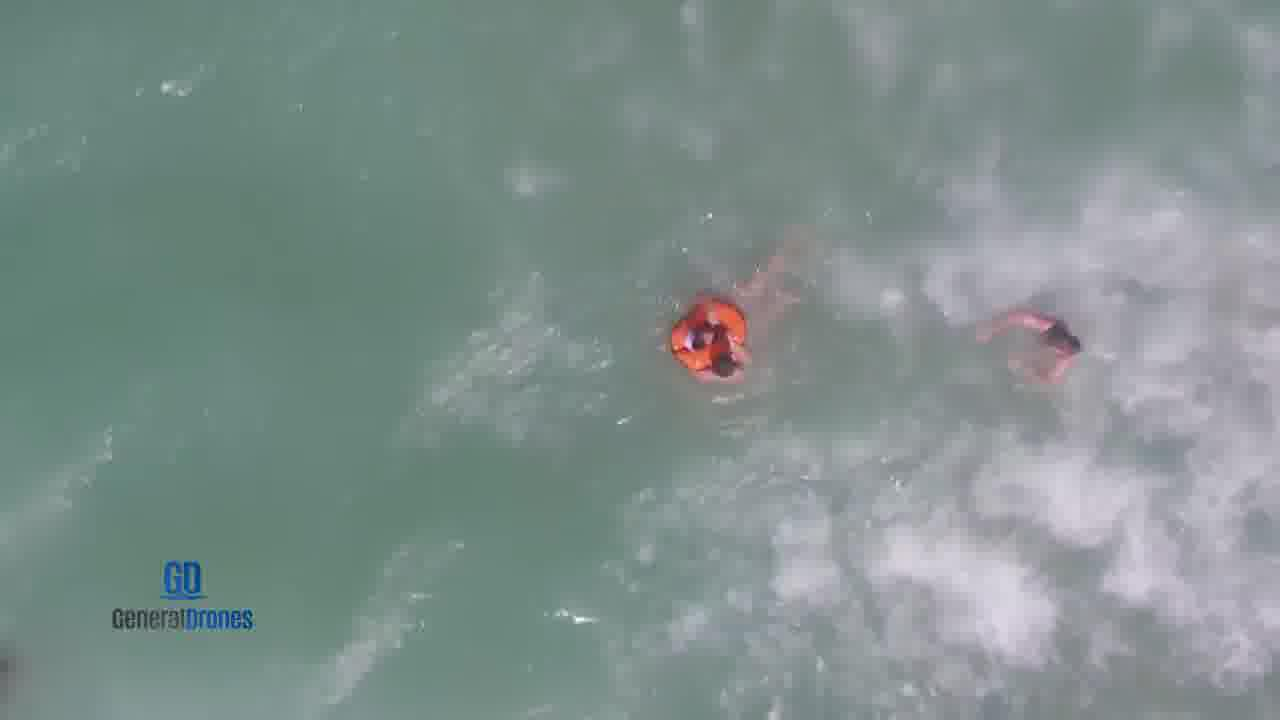swimmer: (669, 251, 796, 351), (975, 295, 1094, 394), (689, 348, 777, 394)
